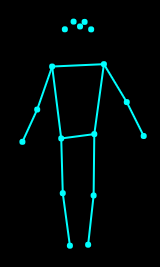mountain: (13, 15, 150, 251)
